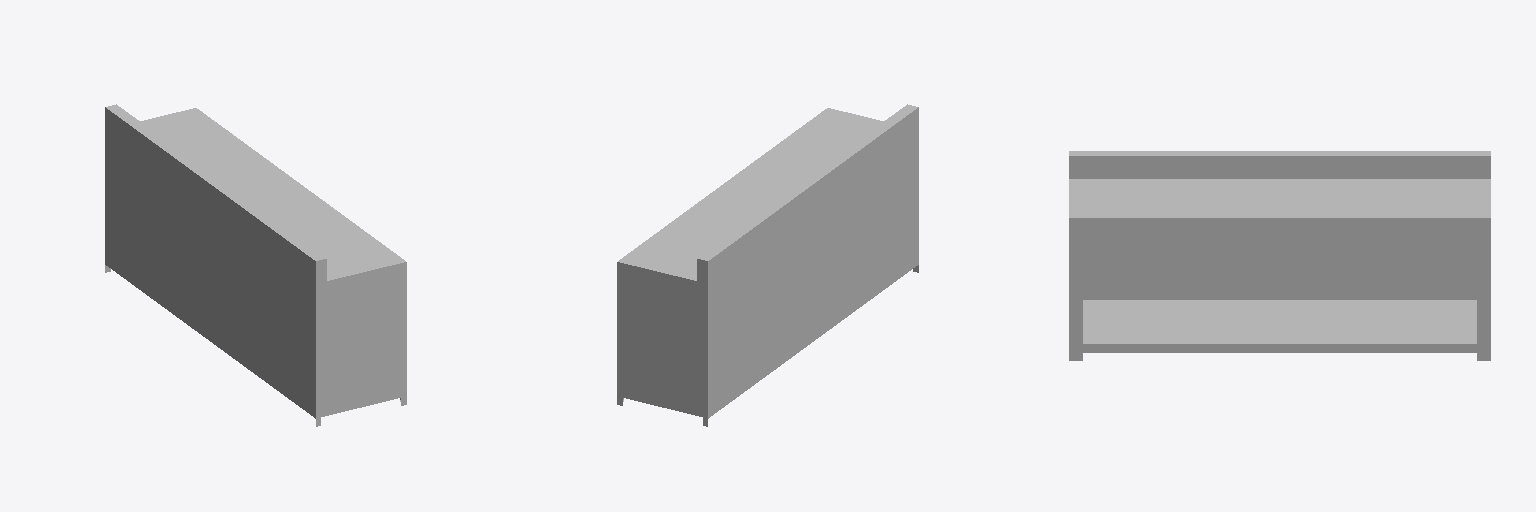
The model's file is mesa2.obj.
The picture shows the model from 3 angles: view 1: azimuth 30°, elevation 25°; view 2: azimuth 150°, elevation 25°; view 3: azimuth 270°, elevation 25°; orthographic projection.
Visible parts, largest first — view 1: Cubo.008_Cubo.009; view 2: Cubo.008_Cubo.009; view 3: Cubo.008_Cubo.009.
Part boxes in pixels (left/top/right/bottom): Cubo.008_Cubo.009: left=105, top=104, right=406, bottom=426; Cubo.008_Cubo.009: left=617, top=104, right=918, bottom=426; Cubo.008_Cubo.009: left=1069, top=151, right=1490, bottom=360.
Size of the model in its own units: 1 by 1.74 by 4.